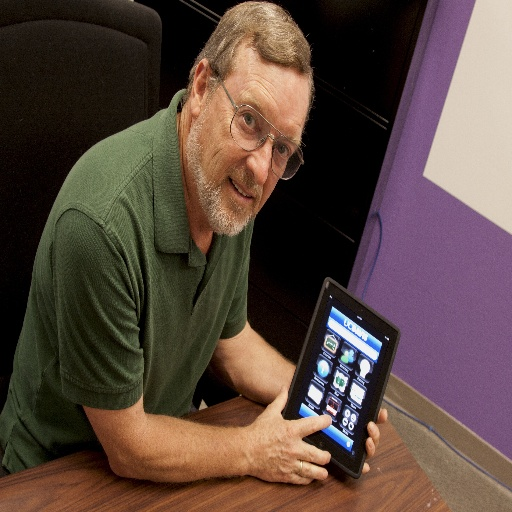hand: (243, 412, 343, 484), (361, 405, 387, 477)
